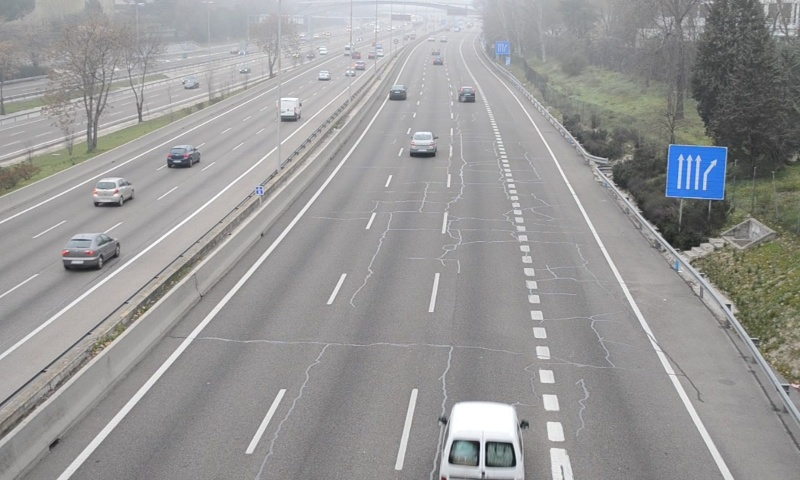car: (410, 130, 436, 155), (389, 84, 407, 101), (457, 86, 475, 102)
van: (439, 402, 526, 480)
